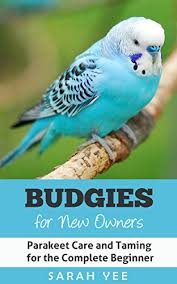budgie: (1, 16, 167, 160)
